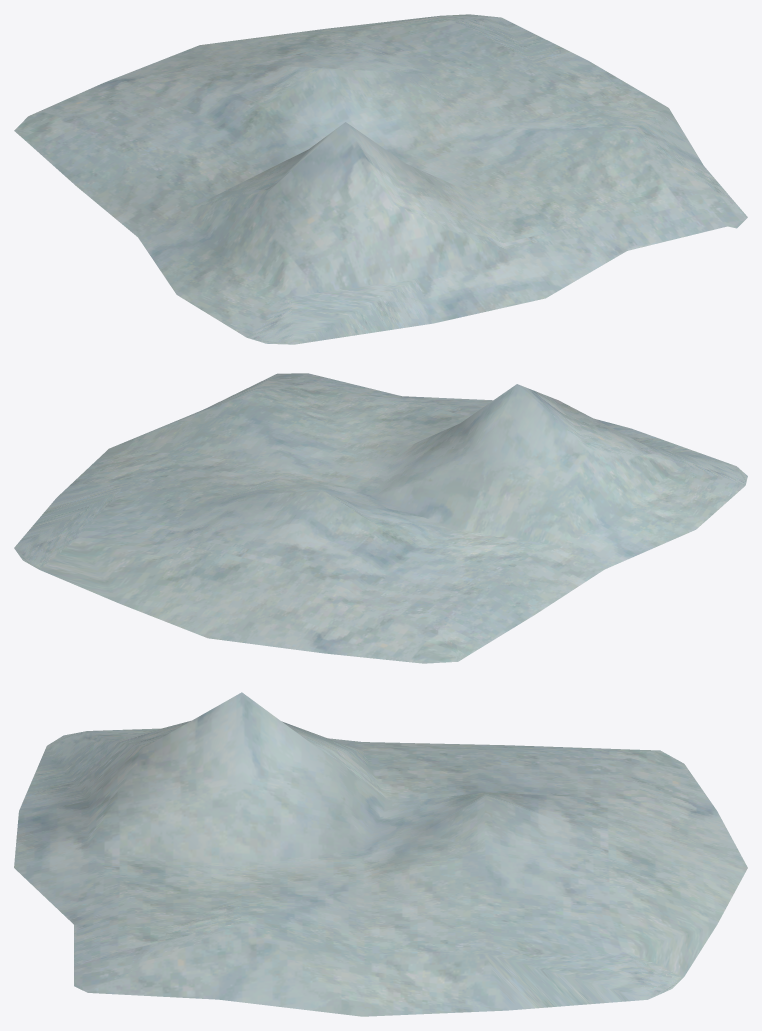
File: environment_common_xuedi_001_a.FBX
3 views of the same model, one above another, from view 1: azimuth 30°, elevation 25°; view 2: azimuth 150°, elevation 25°; view 3: azimuth 270°, elevation 25° (orthographic). The views are drawn at different scales.
Parts seen in each view (by area): view 1: environment_common_xuedi_001_a; view 2: environment_common_xuedi_001_a; view 3: environment_common_xuedi_001_a.
Boxes of the visible parts, <box> form: environment_common_xuedi_001_a: <box>14,14,747,344</box>; environment_common_xuedi_001_a: <box>14,373,747,663</box>; environment_common_xuedi_001_a: <box>14,692,747,1016</box>.
Size of the model in its own units: 3025 by 644 by 3234.
